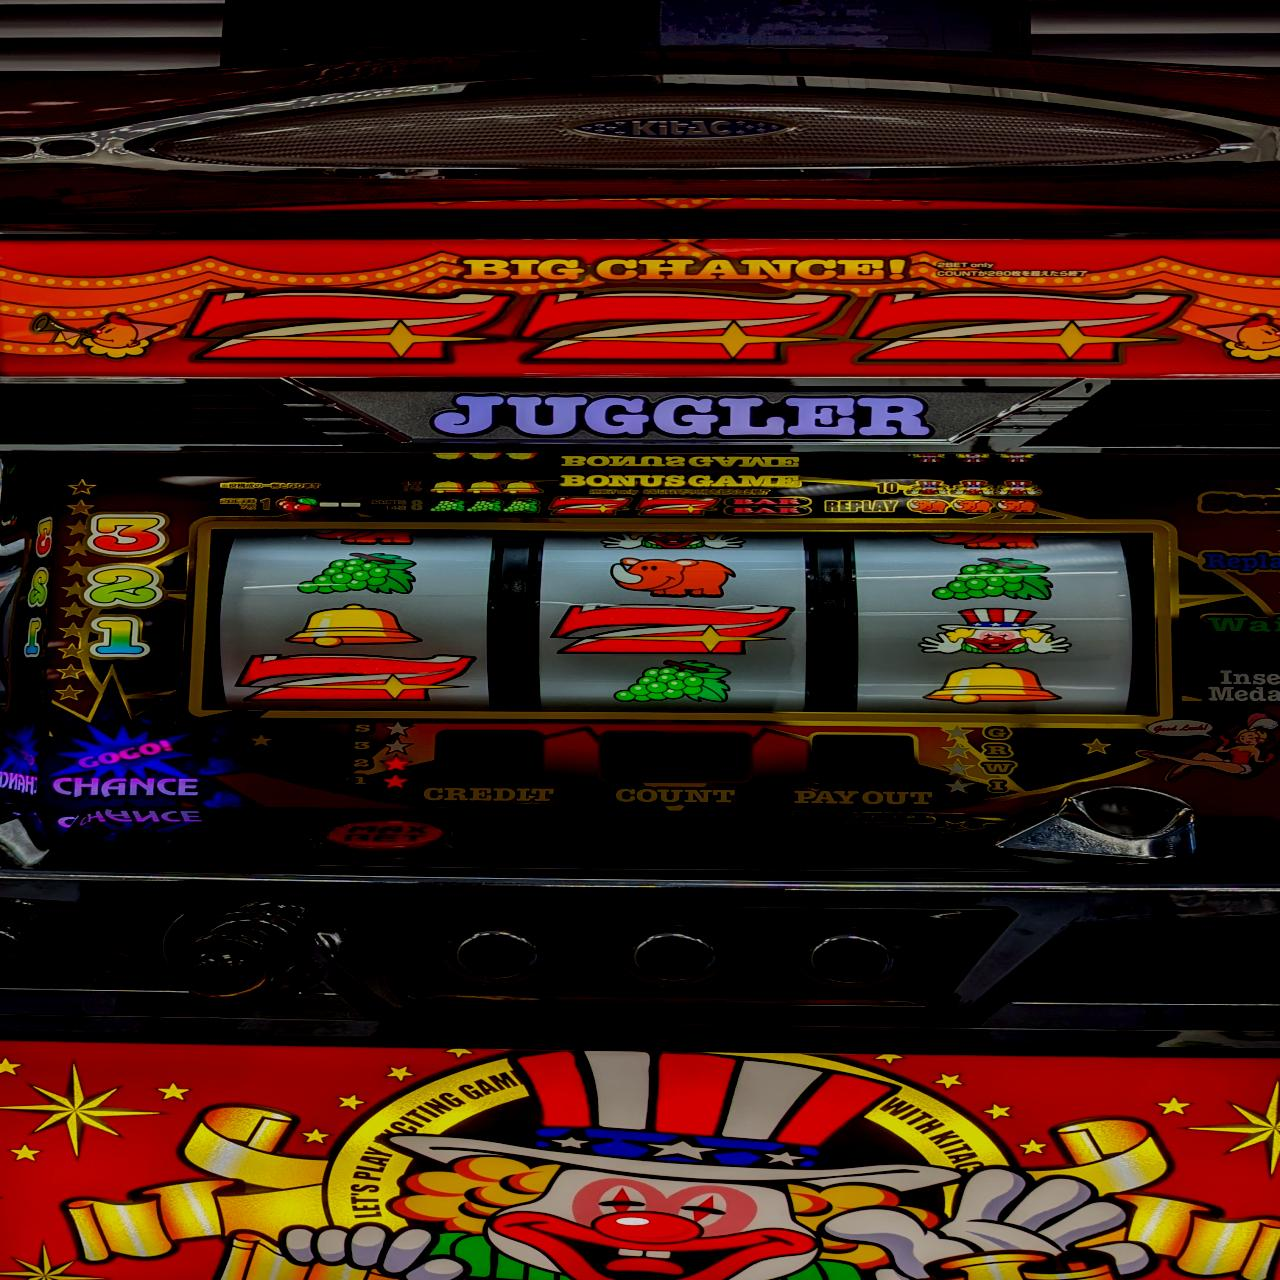7: (237, 651, 475, 704), (552, 601, 795, 654), (610, 655, 731, 708), (928, 556, 1058, 604), (293, 551, 421, 597)
8: (606, 554, 743, 598)
Display: (200, 525, 1160, 720)
bell: (921, 661, 1064, 707), (287, 602, 424, 649)
clown: (917, 607, 1073, 656)
